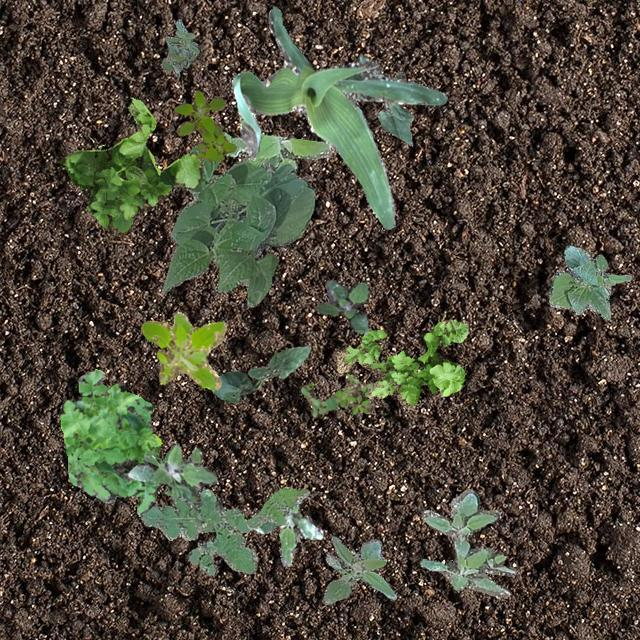crop: (230, 5, 446, 228), (160, 144, 314, 306), (548, 244, 630, 318), (212, 346, 310, 402), (354, 54, 412, 144)
weed: (60, 96, 202, 234), (58, 368, 160, 516), (140, 486, 308, 574), (336, 318, 468, 408), (418, 488, 514, 596), (140, 310, 226, 390), (127, 444, 216, 506), (322, 536, 396, 604), (222, 132, 332, 174), (172, 90, 235, 160), (254, 502, 322, 566), (300, 372, 372, 417), (314, 278, 368, 332), (160, 18, 198, 72)
